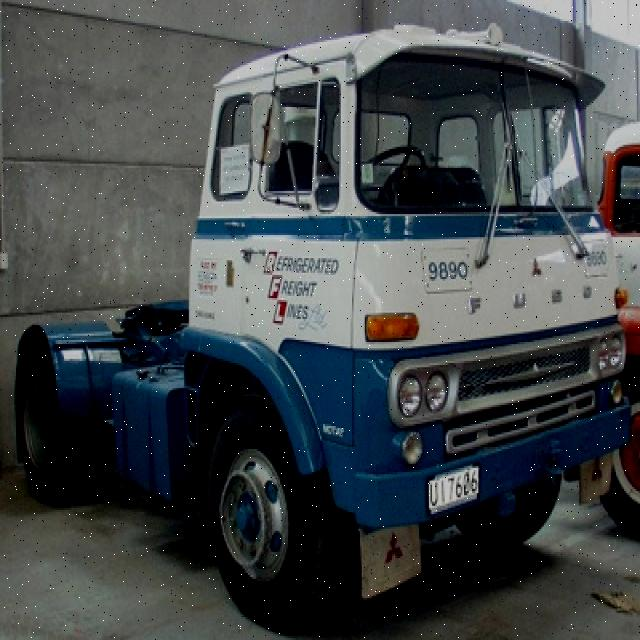truck: (12, 21, 630, 625)
